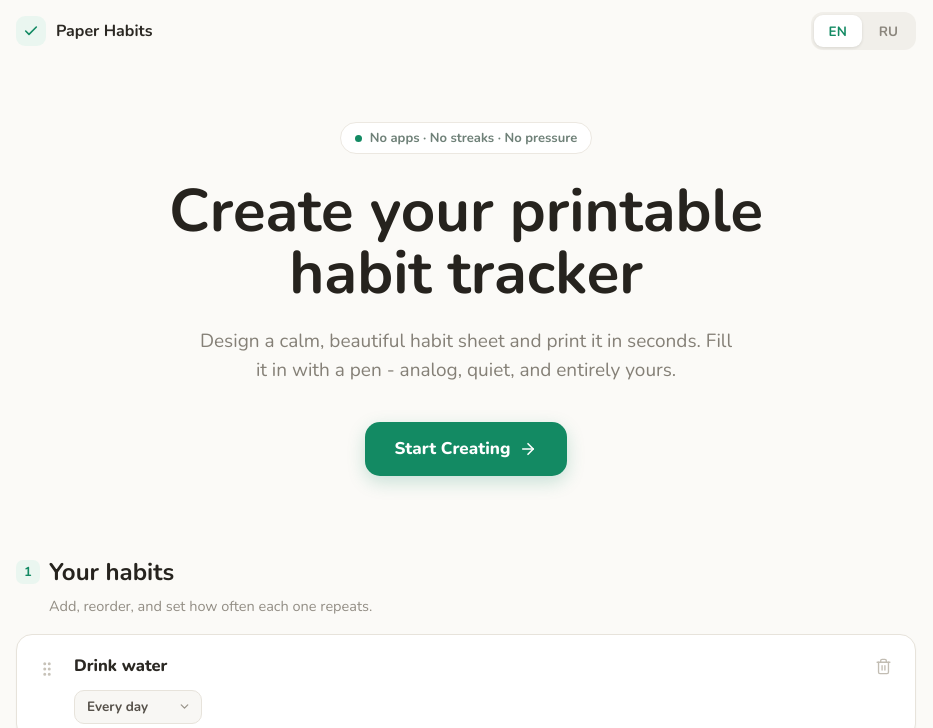
it: App › updates schedules and renders specific day chips
Select "Specific days" in the dropdown named "schedule" at (138, 707), box [74,690,202,724]
(page scrolled)
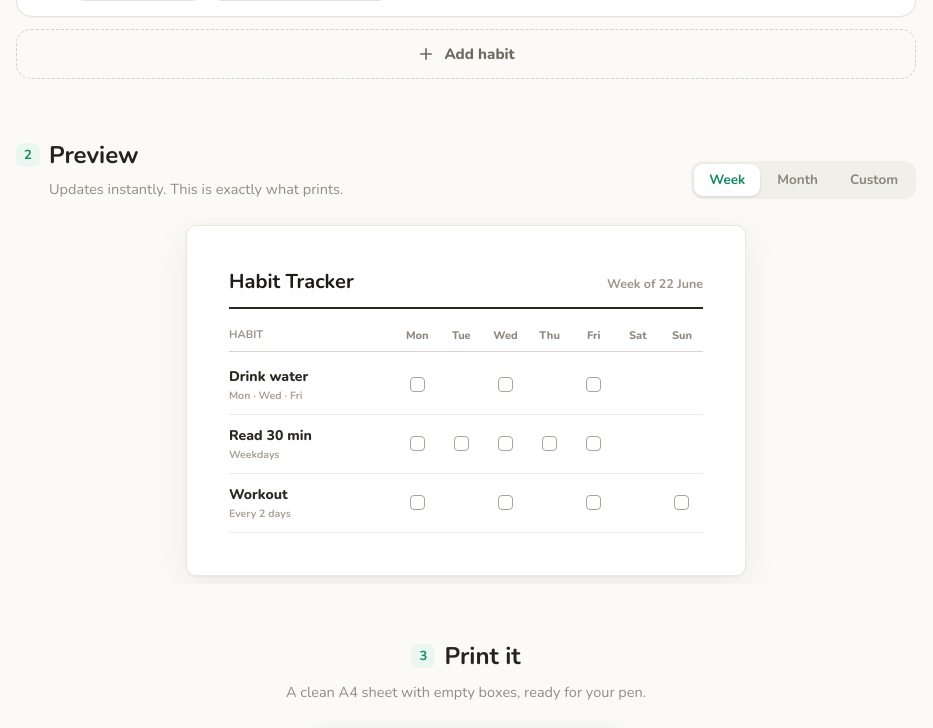
Now the text "Mon · Wed · Fri" is shown, box [229,388,302,403]
